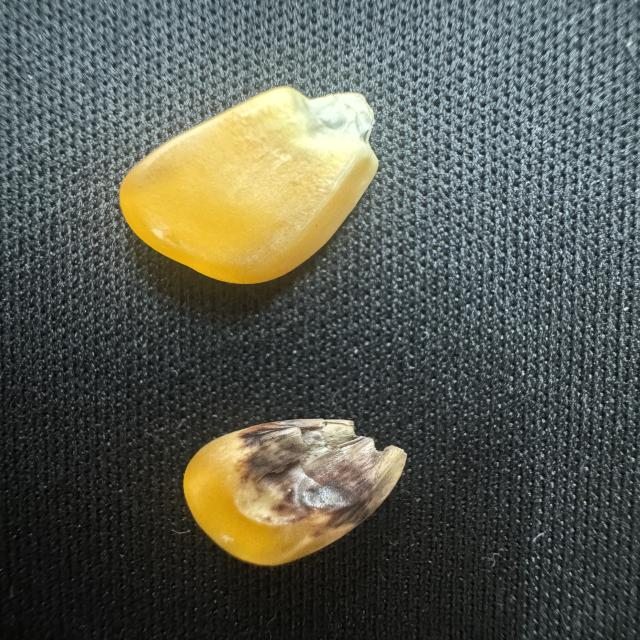Bad-Seed: (168, 395, 419, 573)
Good-Seed: (106, 69, 397, 302)
